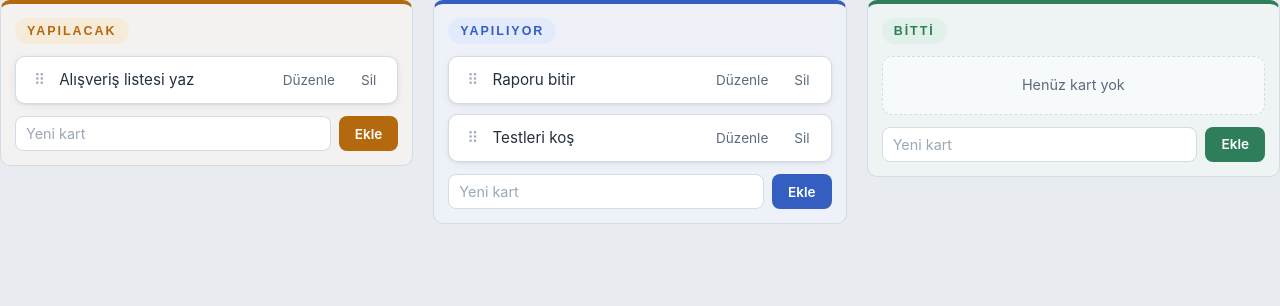
Scenario: silme hatasında uyarı mesajı gösterilir
The image size is (1280, 306).
Click the button "Sil" in the row of "Alışveriş listesi yaz": (369, 80) [352,67,385,93]
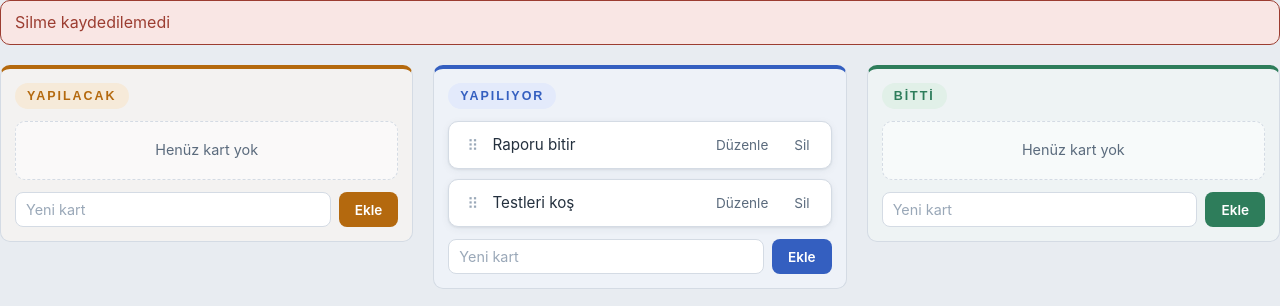
Expected: the message reads "Silme kaydedilemedi", [15,12,170,32]
